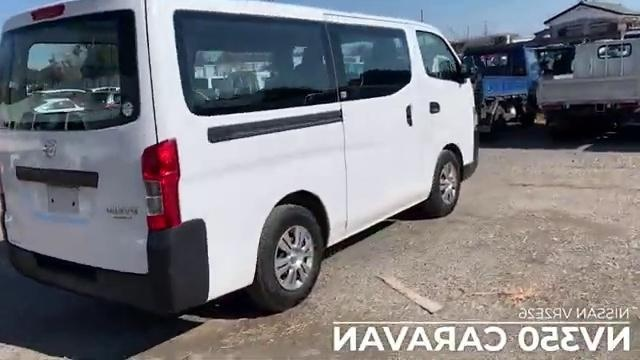van: (0, 0, 471, 296)
